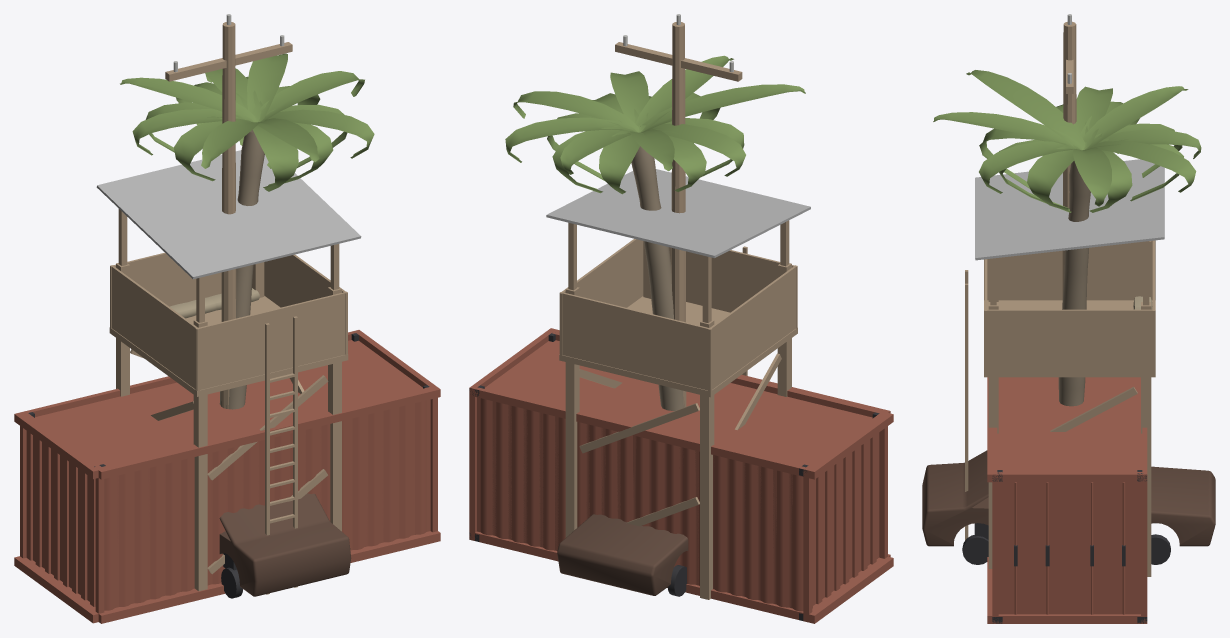
The model's file is props.glb.
3 renders of one model, left to right at view 1: azimuth 30°, elevation 25°; view 2: azimuth 150°, elevation 25°; view 3: azimuth 270°, elevation 25°, orthographic.
Visible parts, largest first — view 1: Container, Watchtower, Palm_Fronds, BurntCar, PowerPole, Palm_Trunk; view 2: Container, Watchtower, Palm_Fronds, BurntCar, PowerPole, Palm_Trunk; view 3: Container, Watchtower, Palm_Fronds, BurntCar, Palm_Trunk, PowerPole.
Part boxes in pixels (bbox=[...]): Container: bbox=[14, 330, 440, 623]; Watchtower: bbox=[96, 150, 361, 594]; Palm_Fronds: bbox=[120, 53, 374, 191]; BurntCar: bbox=[219, 493, 351, 598]; PowerPole: bbox=[165, 14, 292, 408]; Palm_Trunk: bbox=[219, 129, 264, 409]; Container: bbox=[469, 328, 893, 623]; Watchtower: bbox=[546, 169, 810, 599]; Palm_Fronds: bbox=[505, 55, 805, 194]; BurntCar: bbox=[557, 514, 688, 596]; PowerPole: bbox=[615, 14, 742, 406]; Palm_Trunk: bbox=[631, 146, 684, 410]; Container: bbox=[987, 377, 1147, 623]; Watchtower: bbox=[965, 159, 1164, 576]; Palm_Fronds: bbox=[933, 70, 1201, 212]; BurntCar: bbox=[922, 450, 1215, 564]; Palm_Trunk: bbox=[1058, 161, 1090, 406]; PowerPole: bbox=[1062, 14, 1076, 297].
Size of the model in its own units: 6.16 by 9.16 by 4.61.
